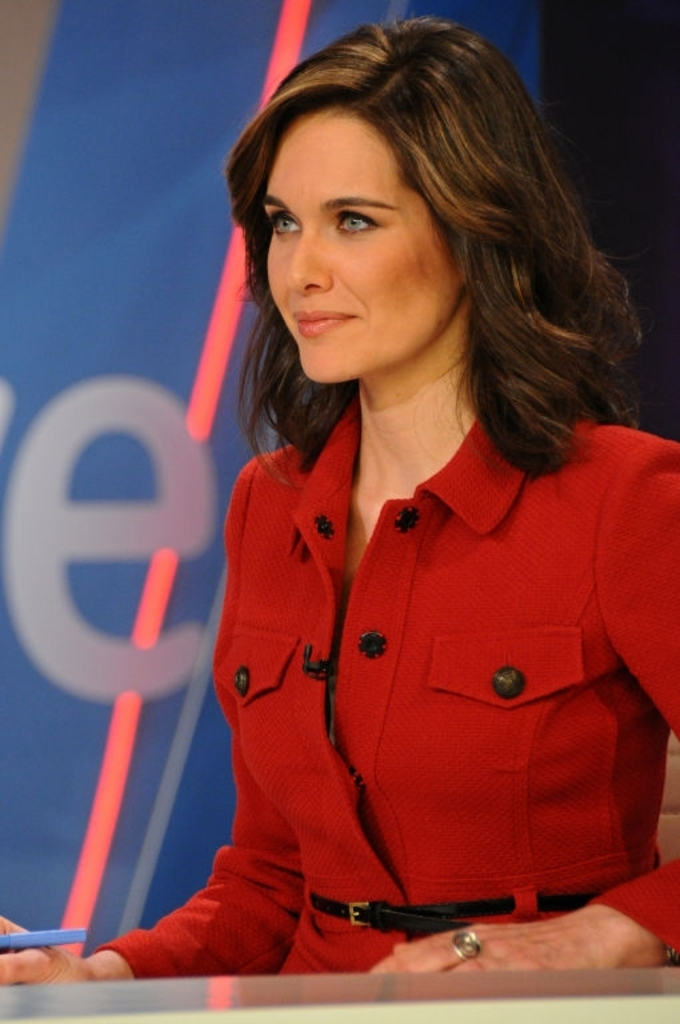Human_hand: (362, 921, 649, 977), (0, 916, 89, 991)
